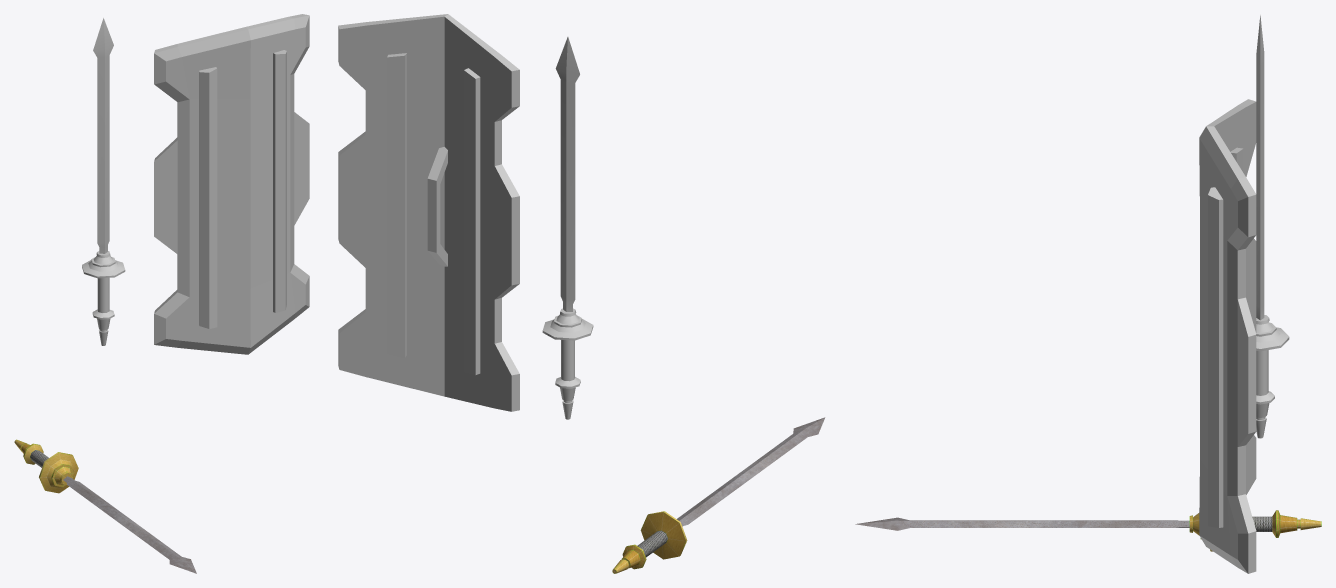
Rendered from knight stuff.FBX.
3 views of the same model, side by side, from view 1: azimuth 30°, elevation 25°; view 2: azimuth 150°, elevation 25°; view 3: azimuth 270°, elevation 25° (orthographic). The views are drawn at different scales.
Visible parts, largest first — view 1: Box005, Box004, Box003; view 2: Box005, Box004, Box003; view 3: Box005, Box004, Box003.
Part boxes in pixels (x1,y1,x2,y2): Box005: (154, 14, 309, 354); Box004: (82, 18, 125, 345); Box003: (14, 439, 196, 573); Box005: (338, 14, 519, 411); Box004: (542, 37, 593, 419); Box003: (612, 417, 825, 573); Box005: (1199, 99, 1256, 573); Box004: (1256, 15, 1289, 438); Box003: (855, 510, 1321, 551).
Size of the model in its own units: 169 by 254 by 186.
